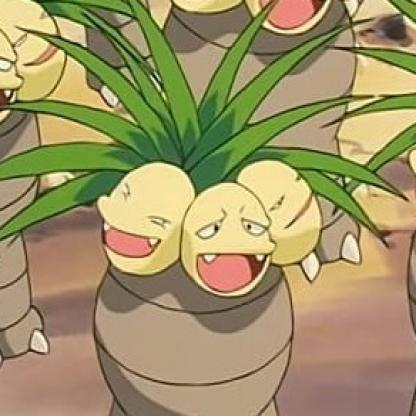Exeggutor: (28, 37, 384, 415)
